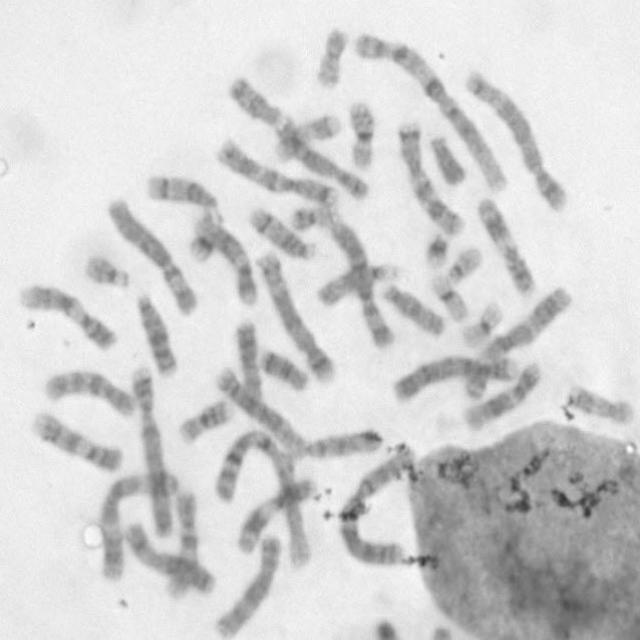A1: (354, 31, 510, 193), (214, 428, 312, 570)
A2: (216, 370, 388, 460), (337, 446, 417, 567)
A3: (462, 283, 574, 401), (95, 470, 181, 588)
B4: (126, 364, 174, 541), (388, 351, 521, 405)
B5: (466, 70, 570, 214), (255, 251, 338, 388)
C10: (43, 368, 137, 422), (160, 486, 200, 604)
C11: (232, 475, 318, 554), (476, 196, 538, 296)
C12: (192, 216, 258, 307), (466, 360, 544, 431)
C6: (107, 196, 198, 316), (329, 221, 399, 349)
C7: (398, 122, 468, 238), (218, 138, 339, 204)
C8: (275, 114, 372, 204), (213, 532, 281, 639)
C9: (17, 284, 119, 355), (30, 408, 125, 476)
D13: (134, 294, 180, 378), (233, 323, 263, 407)
D14: (248, 205, 317, 262), (140, 173, 218, 209)
D15: (312, 262, 399, 308), (381, 283, 446, 340)
E16: (176, 398, 233, 447), (347, 102, 378, 170)
E17: (272, 112, 343, 165), (566, 381, 636, 426)
E18: (227, 75, 279, 126), (258, 349, 309, 394)
F19: (426, 273, 470, 324), (460, 300, 504, 350)
F20: (314, 25, 353, 93), (285, 201, 343, 238)
G21: (424, 230, 448, 272), (188, 228, 216, 260)
G22: (84, 252, 130, 294), (446, 246, 486, 286)
X: (122, 519, 218, 597)
Y: (426, 132, 466, 186)
